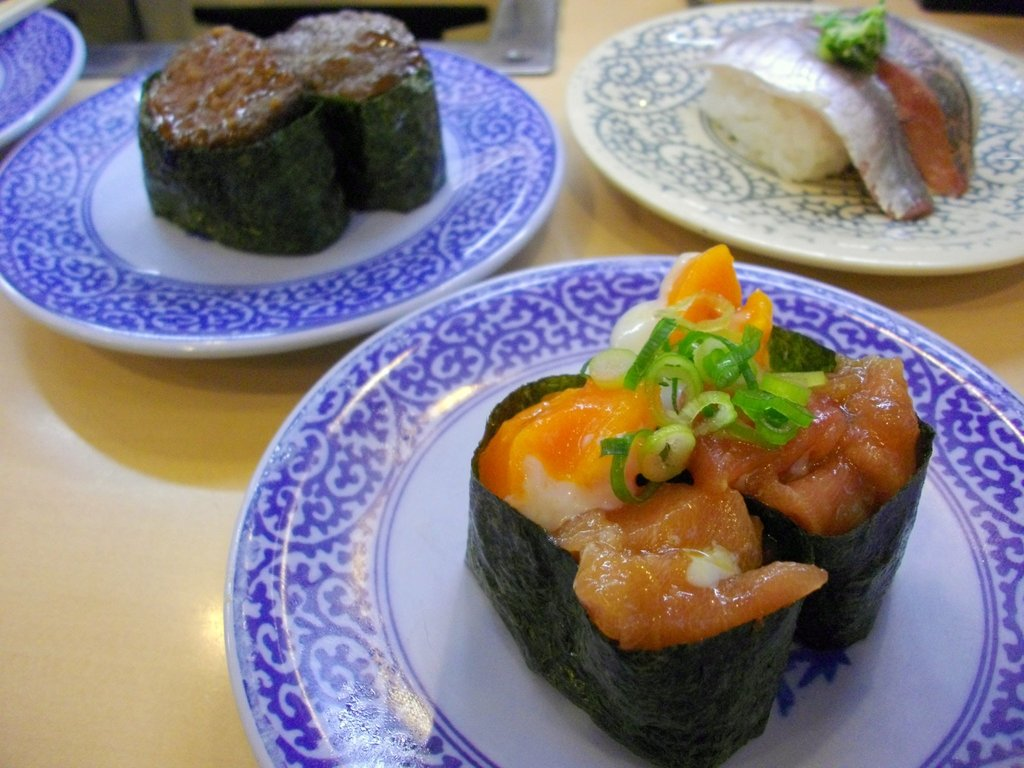sushi: (469, 236, 930, 761), (698, 8, 966, 218), (140, 22, 350, 259), (264, 11, 436, 212)
